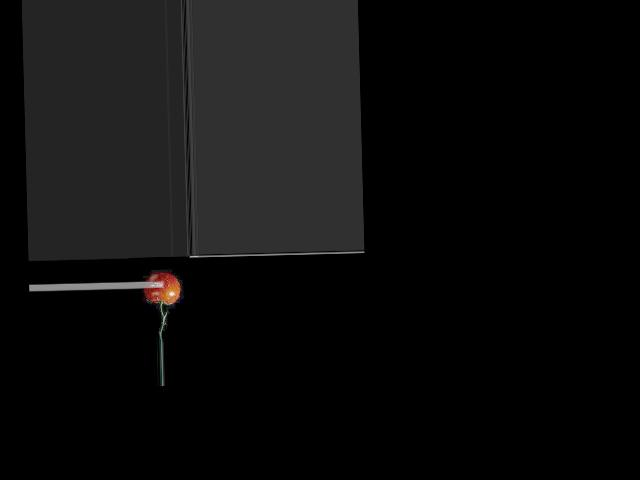tomato: (144, 273, 180, 304)
